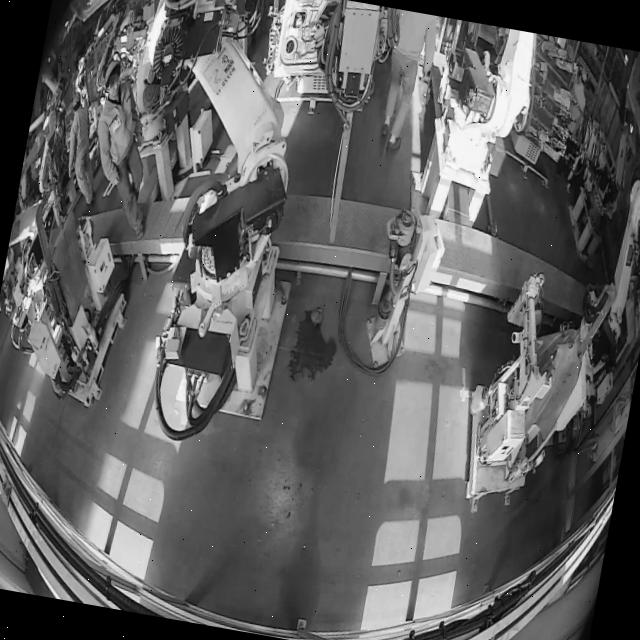Person: (76, 57, 174, 241), (372, 8, 441, 156), (58, 98, 110, 206)
